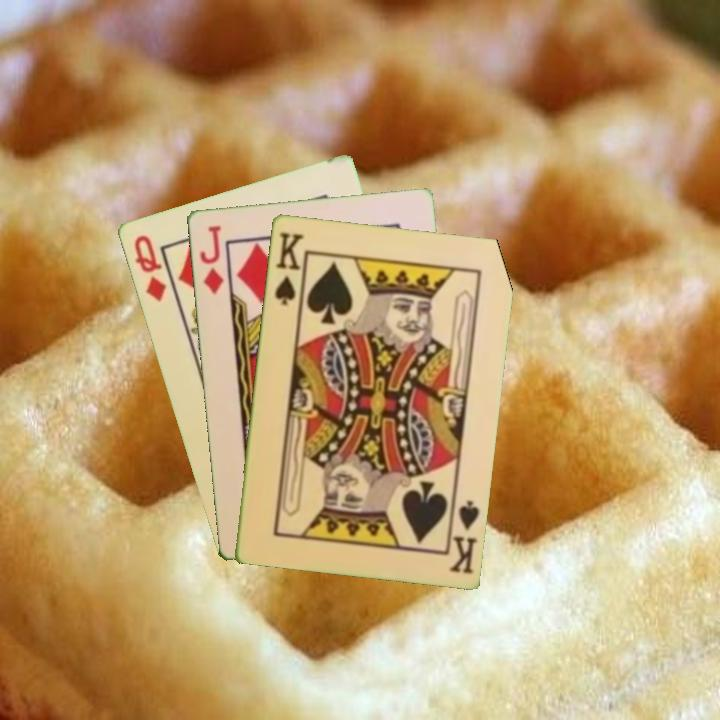Jd: (196, 221, 226, 297)
Ks: (444, 492, 482, 577), (271, 228, 306, 308)
Qd: (130, 231, 169, 305)
